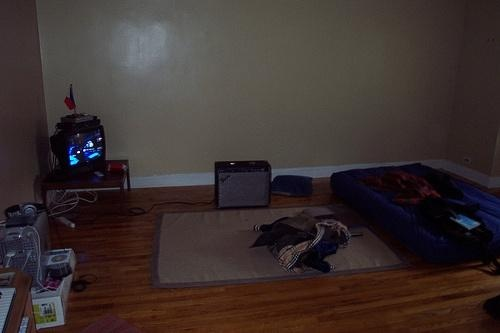tvmonitor: (52, 117, 109, 177)
